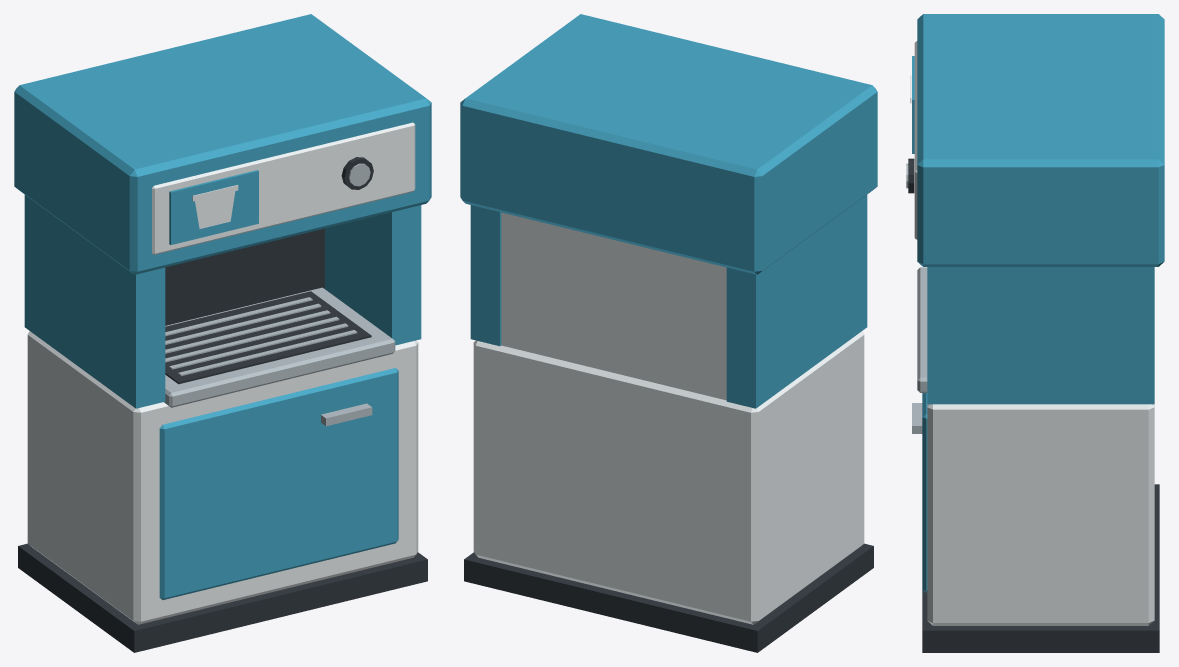
Rendered from drinksMachine.glb.
3 views of the same model, side by side, from view 1: azimuth 30°, elevation 25°; view 2: azimuth 150°, elevation 25°; view 3: azimuth 270°, elevation 25° (orthographic). The views are drawn at different scales.
Parts seen in each view (by area): view 1: DrinksMachine; view 2: DrinksMachine; view 3: DrinksMachine.
Boxes of the visible parts, bbox=[...] form: DrinksMachine: bbox=[14, 14, 431, 652]; DrinksMachine: bbox=[460, 14, 877, 652]; DrinksMachine: bbox=[906, 14, 1164, 652].
Bounding box in the file's own units: 0.72 × 1.1 × 0.522.
